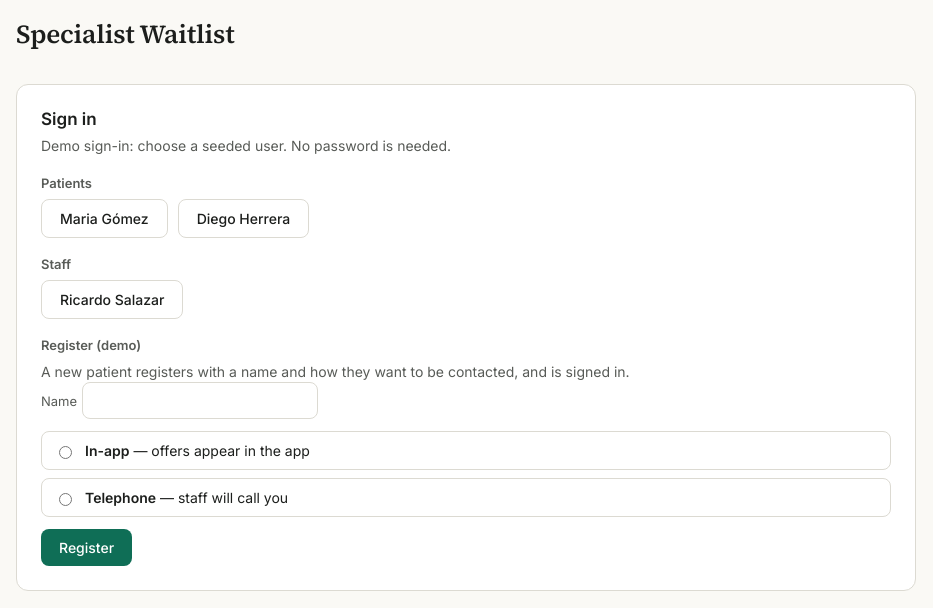
sign-in and role routing (6.2) › lands a patient on the patient view
Click the button "Maria Gómez": (104, 218) [41, 199, 168, 238]
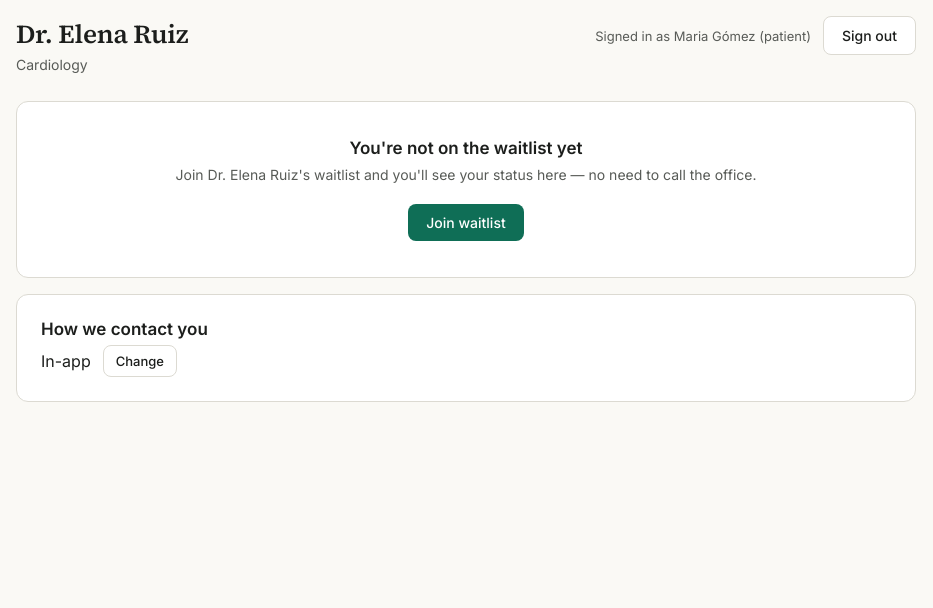
Now the heading "You're not on the waitlist yet" is shown, box [350, 138, 583, 158]
